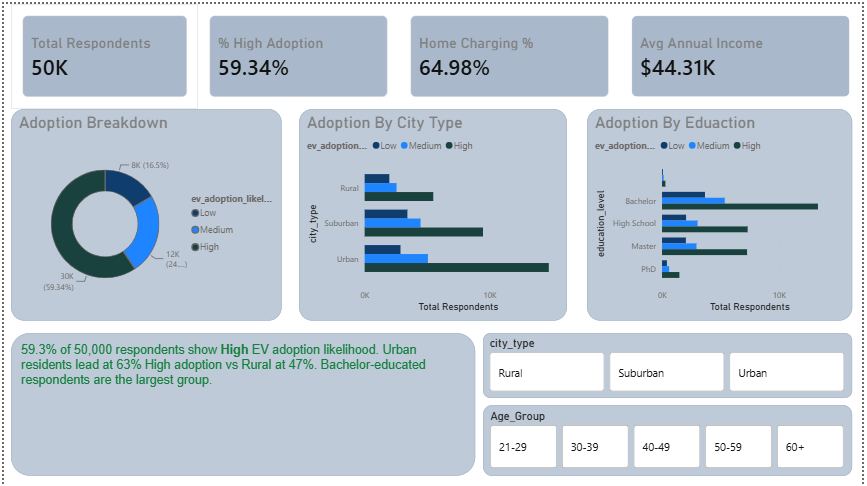

The page's visual inventory and layout, read from the dashboard file:
{"tool":"powerbi","page":{"name":"Page 1","canvas":[1280,720],"ordinal":0},"visuals":[{"type":"cardVisual","fields":{"Data":["ev_adoption_cleaned(final).Total Respondents"]},"box":[10,0,280,156],"z":0},{"type":"cardVisual","title":"% High Adoption","fields":{"Data":["ev_adoption_cleaned(final).% High Adoption"]},"box":[290,0,300,156],"z":1000},{"type":"cardVisual","fields":{"Data":["ev_adoption_cleaned(final).Home Charging %"]},"box":[590,0,330,156],"z":2000},{"type":"cardVisual","fields":{"Data":["ev_adoption_cleaned(final).Avg Annual Income"]},"box":[920,0,360,156],"z":3000},{"type":"donutChart","title":"Adoption Breakdown","fields":{"Category":["ev_adoption_cleaned(final).ev_adoption_likelihood"],"Y":["ev_adoption_cleaned(final).Total Respondents"]},"box":[10,156,404,316],"z":4000},{"type":"clusteredBarChart","title":"Adoption By City Type","fields":{"Category":["ev_adoption_cleaned(final).city_type"],"Y":["ev_adoption_cleaned(final).Total Respondents"],"Series":["ev_adoption_cleaned(final).ev_adoption_likelihood"]},"box":[440,156,400,316],"z":5000},{"type":"clusteredBarChart","title":"Adoption By Eduaction","fields":{"Category":["ev_adoption_cleaned(final).education_level"],"Y":["ev_adoption_cleaned(final).Total Respondents"],"Series":["ev_adoption_cleaned(final).ev_adoption_likelihood"]},"box":[870,156,396,316],"z":6000},{"type":"textbox","box":[10,491.4,692.9,212.9],"z":7000},{"type":"advancedSlicerVisual","fields":{"Values":["ev_adoption_cleaned(final).city_type"]},"box":[714.3,491.4,551.4,97.1],"z":8000},{"type":"advancedSlicerVisual","fields":{"Values":["ev_adoption_cleaned(final).Age_Group"]},"box":[714.3,598.6,551.4,105.7],"z":9000}]}

Visuals, with their boxes in screenshot pixels (x1, y1, x2, y2), scaled from the page's 1280x720 canvas onto the 867x486 screenshot:
cardVisual - ev_adoption_cleaned(final).Total Respondents: Rect(7, 0, 196, 105)
"% High Adoption" cardVisual: Rect(196, 0, 400, 105)
cardVisual - ev_adoption_cleaned(final).Home Charging %: Rect(400, 0, 623, 105)
cardVisual - ev_adoption_cleaned(final).Avg Annual Income: Rect(623, 0, 866, 105)
"Adoption Breakdown" donutChart: Rect(7, 105, 280, 319)
"Adoption By City Type" clusteredBarChart: Rect(298, 105, 569, 319)
"Adoption By Eduaction" clusteredBarChart: Rect(589, 105, 858, 319)
textbox: Rect(7, 332, 476, 475)
advancedSlicerVisual - ev_adoption_cleaned(final).city_type: Rect(484, 332, 857, 397)
advancedSlicerVisual - ev_adoption_cleaned(final).Age_Group: Rect(484, 404, 857, 475)
